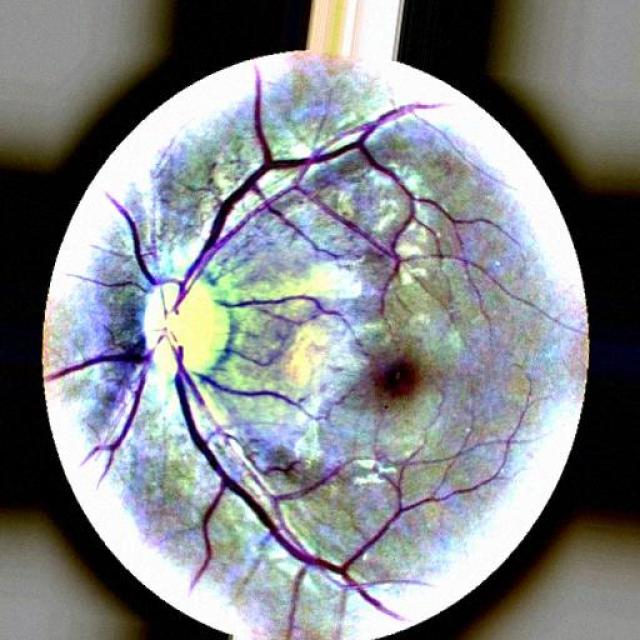Macula: (376, 358, 419, 396)
Nerves: (45, 326, 498, 616), (106, 69, 418, 319), (195, 372, 319, 420), (218, 295, 350, 328), (76, 276, 139, 288)
Optic Disk: (146, 284, 229, 376)
